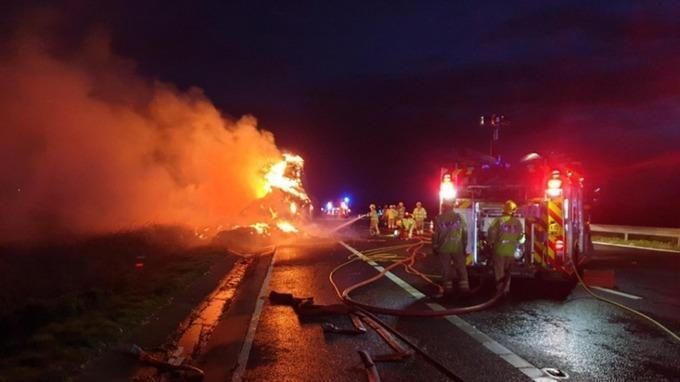fire: (241, 144, 318, 241)
